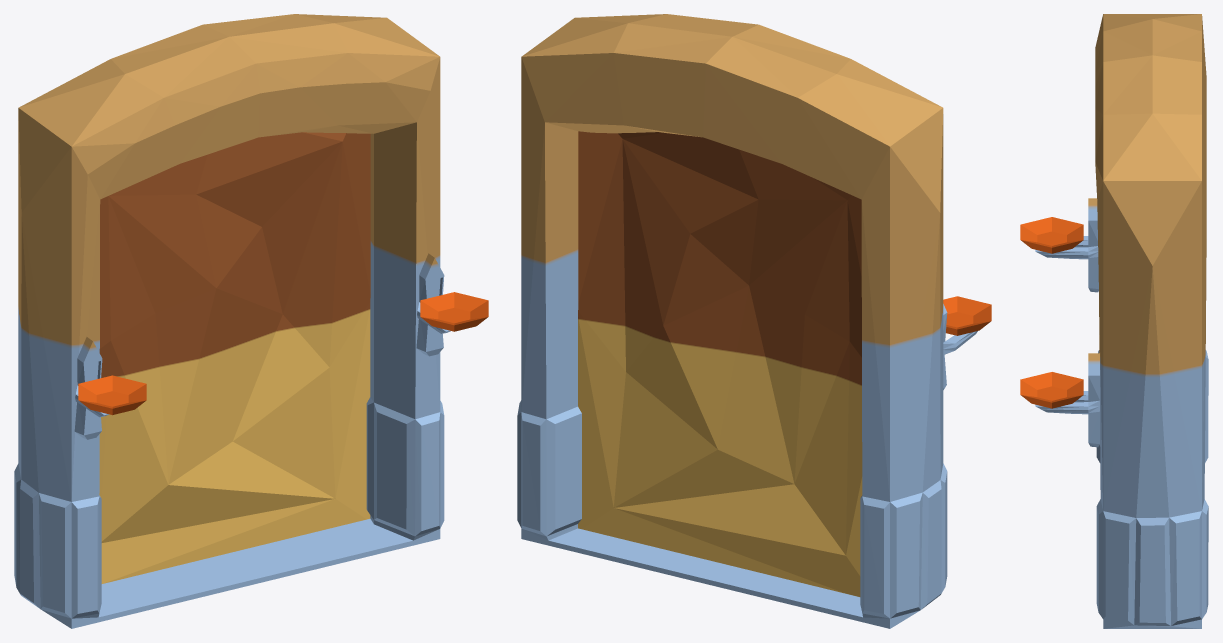
The model's file is PuzzleRoomGate.fbx.
3 views of the same model, side by side, from view 1: azimuth 30°, elevation 25°; view 2: azimuth 150°, elevation 25°; view 3: azimuth 270°, elevation 25° (orthographic). The views are drawn at different scales.
Visible parts, largest first — view 1: PuzzleRoomGate:PuzzleRoomGate:polySurface3; view 2: PuzzleRoomGate:PuzzleRoomGate:polySurface3; view 3: PuzzleRoomGate:PuzzleRoomGate:polySurface3.
Part boxes in pixels (x1,y1,x2,y2): PuzzleRoomGate:PuzzleRoomGate:polySurface3: (14, 14, 488, 628); PuzzleRoomGate:PuzzleRoomGate:polySurface3: (517, 14, 991, 628); PuzzleRoomGate:PuzzleRoomGate:polySurface3: (1020, 14, 1208, 628).
Size of the model in its own units: 7.3 by 8.86 by 3.08.
